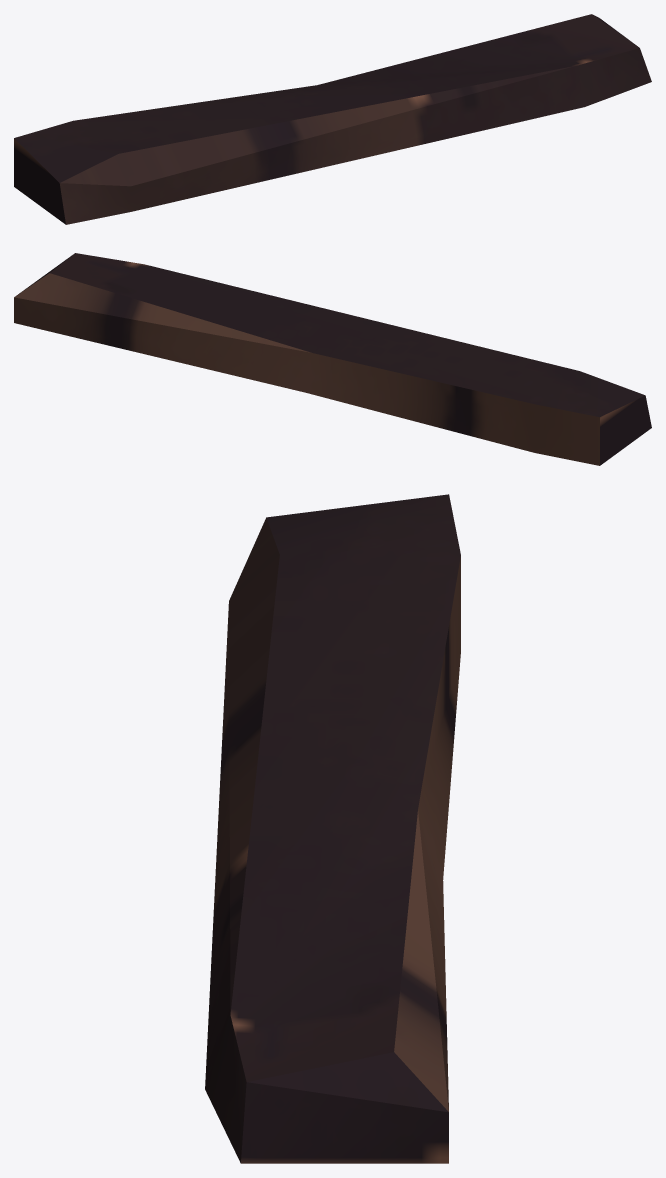
File: bridge_11.FBX
The picture shows the model from 3 angles, top to bottom: view 1: azimuth 30°, elevation 25°; view 2: azimuth 150°, elevation 25°; view 3: azimuth 270°, elevation 25°; orthographic projection. The views are drawn at different scales.
Parts seen in each view (by area): view 1: bridge_11; view 2: bridge_11; view 3: bridge_11.
Part boxes in pixels (bbox=[...]): bridge_11: bbox=[14, 14, 651, 224]; bridge_11: bbox=[14, 253, 651, 465]; bridge_11: bbox=[205, 494, 460, 1163].
Size of the model in its own units: 3.99 by 0.3166 by 0.7541.
